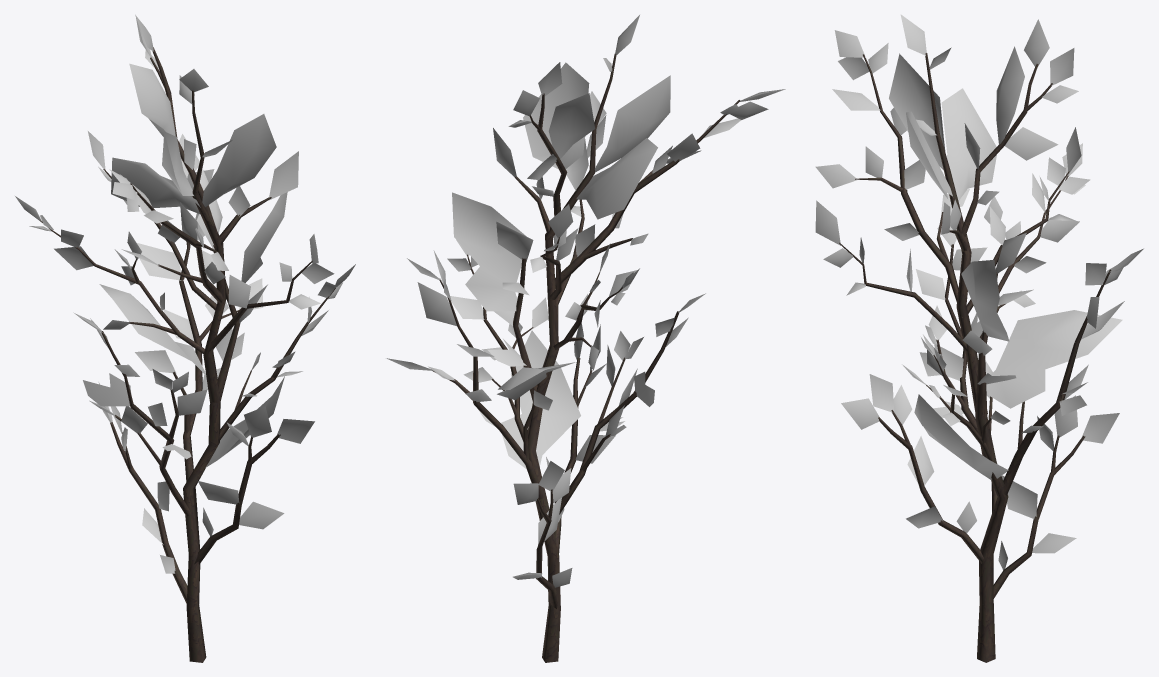
The model's file is SM_FW01_TreeSapling_05.fbx.
3 renders of one model, left to right at view 1: azimuth 30°, elevation 25°; view 2: azimuth 150°, elevation 25°; view 3: azimuth 270°, elevation 25°, orthographic.
Parts seen in each view (by area): view 1: SM_FW01_TreeSapling_05_LOD0; view 2: SM_FW01_TreeSapling_05_LOD0; view 3: SM_FW01_TreeSapling_05_LOD0.
Part boxes in pixels (x1,y1,x2,y2): SM_FW01_TreeSapling_05_LOD0: (15, 14, 355, 662); SM_FW01_TreeSapling_05_LOD0: (386, 15, 785, 662); SM_FW01_TreeSapling_05_LOD0: (815, 14, 1143, 662).
Size of what is drawn, in the model's own units: 0.8505 by 1.79 by 0.8599.
